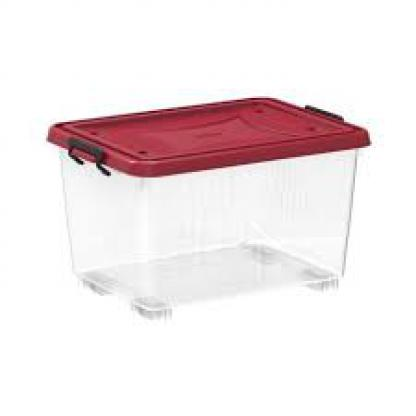plastic_box: (20, 59, 402, 344)
